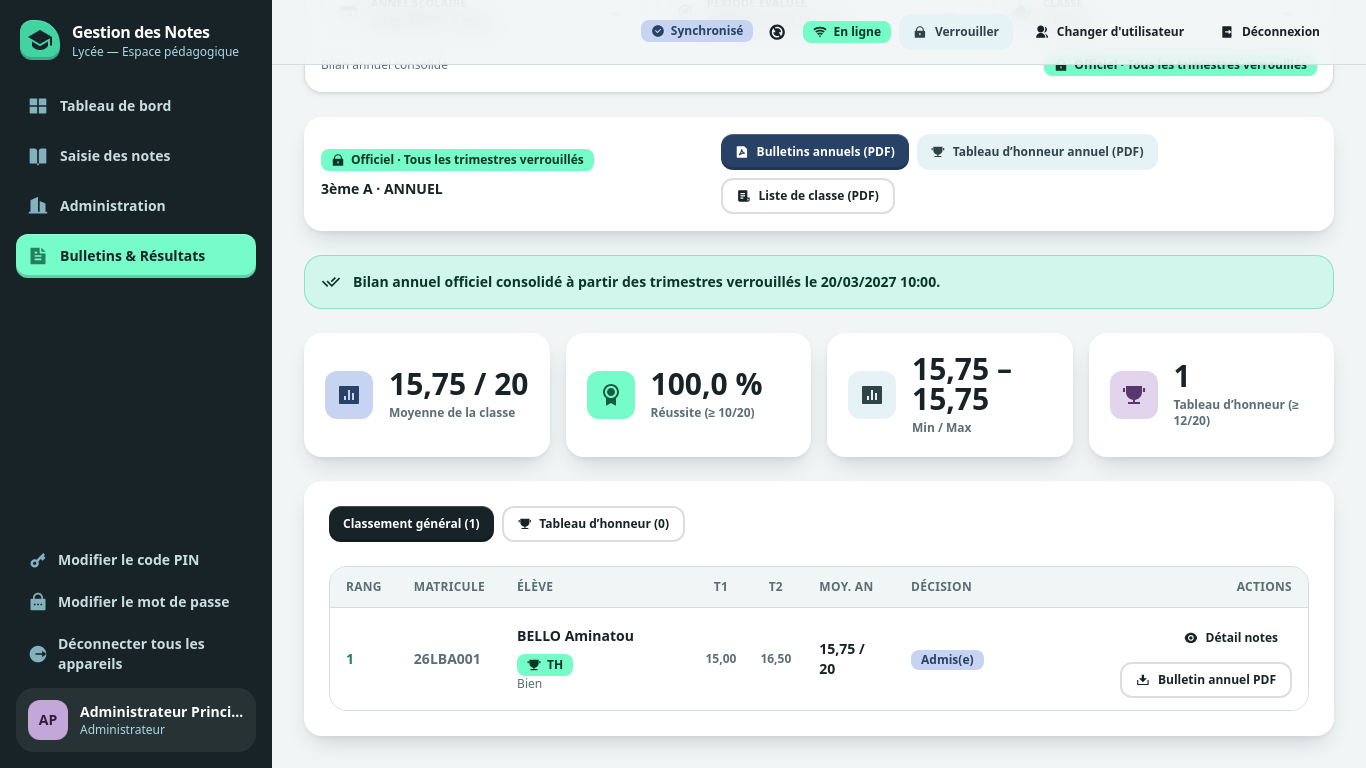
/reports Stats, Council Decisions, Results, Audit & PDF downloads › supports Bilan annuel on stats & results tabs, annual PDFs, and period/council audit sub-views
Earlier steps of the test are not shown.
(page scrolled)
Expected: the text "15,00" is shown, top-left (694, 608), bottom-right (748, 710)
Expected: the text "16,50" is shown, top-left (748, 608), bottom-right (803, 710)
Step 1. Click the button "Détail notes" → (1231, 638), box top-left (1170, 620), bottom-right (1292, 656)
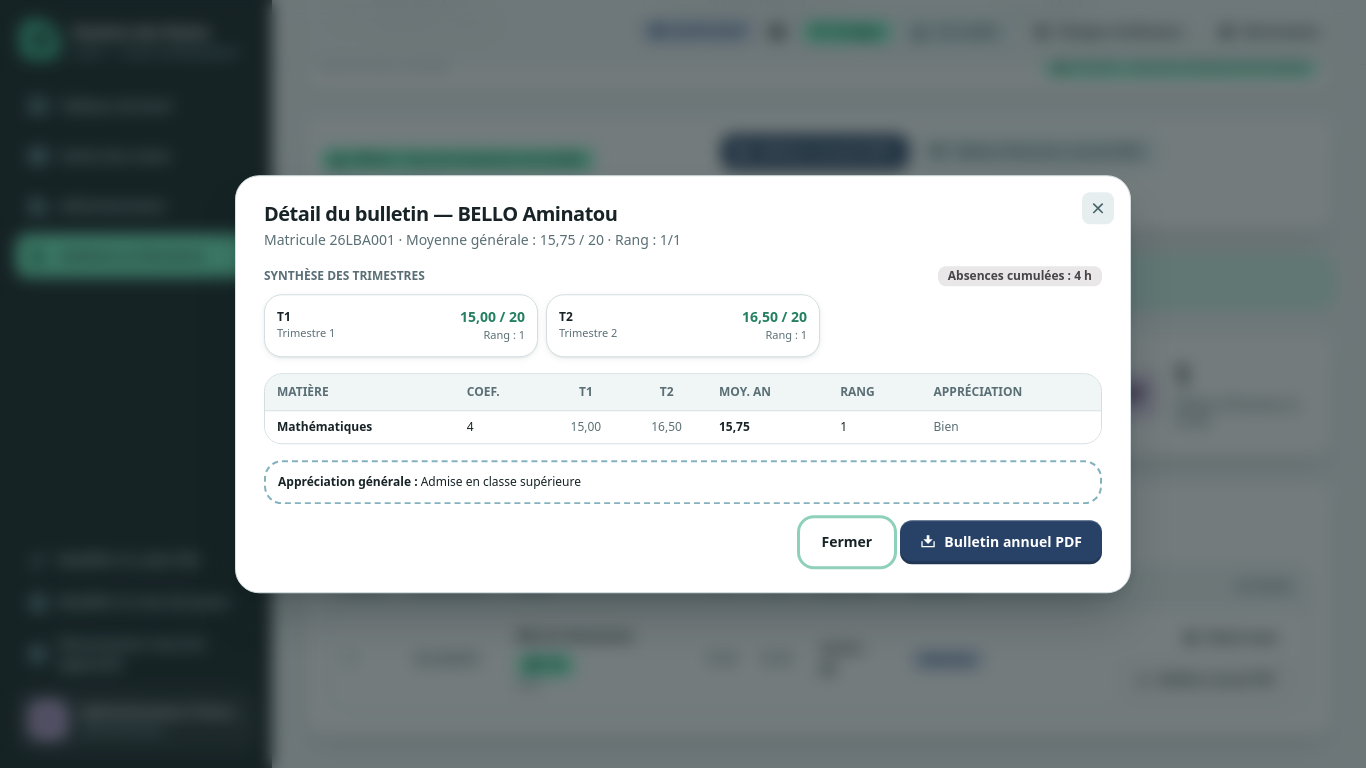
Now the text "Synthèse des trimestres" is shown, box top-left (264, 268), bottom-right (425, 284)
Now the text "Absences cumulées : 4 h" is shown, box top-left (938, 266), bottom-right (1102, 286)
Step 2. Click the button named "Fermer" → (1098, 208), box top-left (1082, 192), bottom-right (1114, 224)
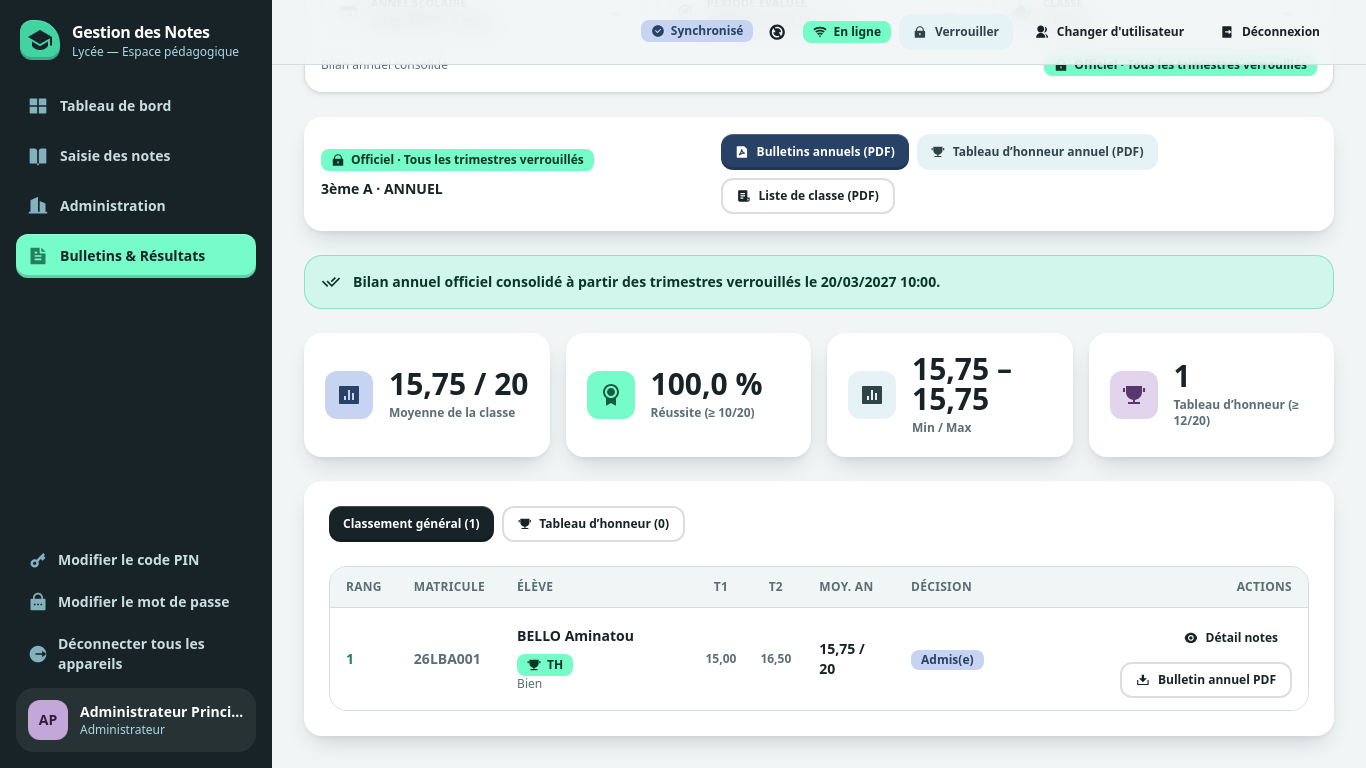
Step 3. Click the button "Bulletins annuels (PDF)" → (815, 152), box top-left (721, 134), bottom-right (909, 170)
(page scrolled)
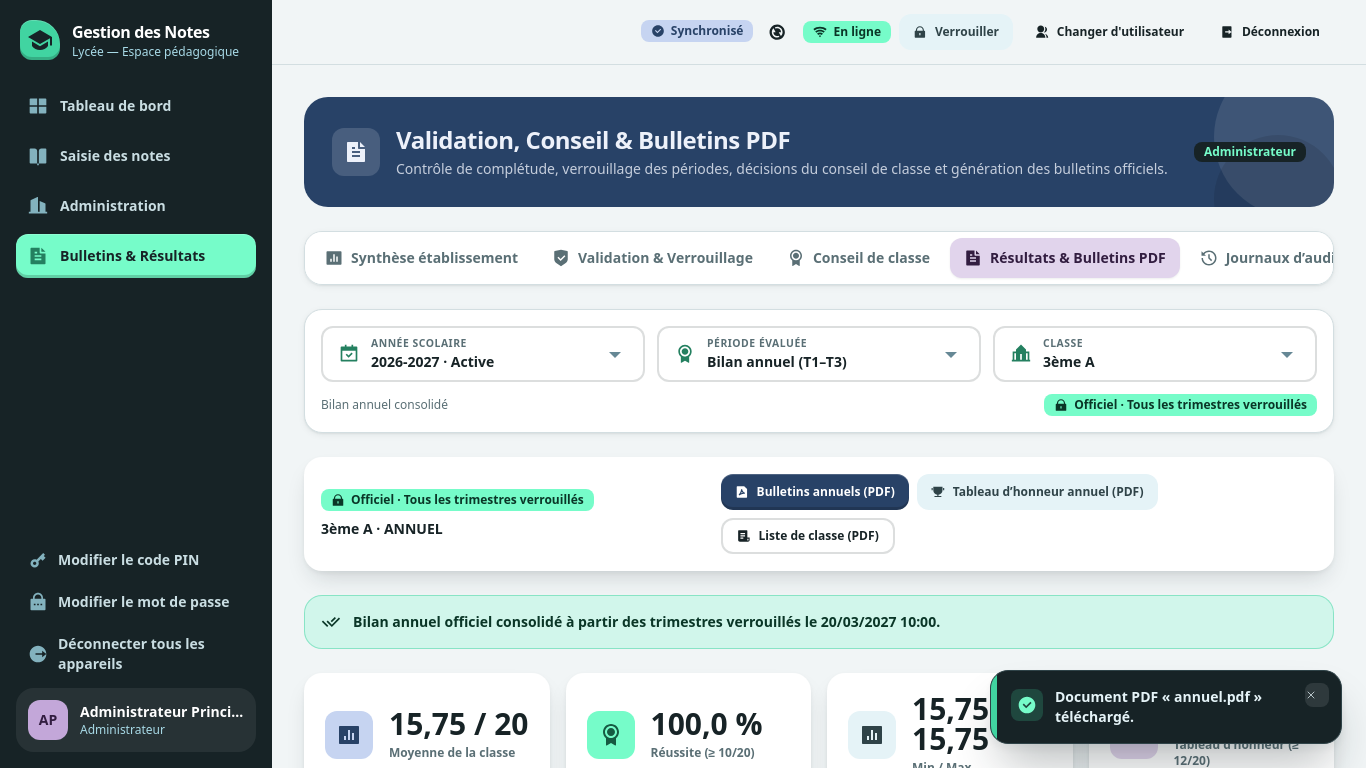
Step 4. Click the tab "Validation & Verrouillage" → (652, 258), box top-left (538, 238), bottom-right (767, 278)
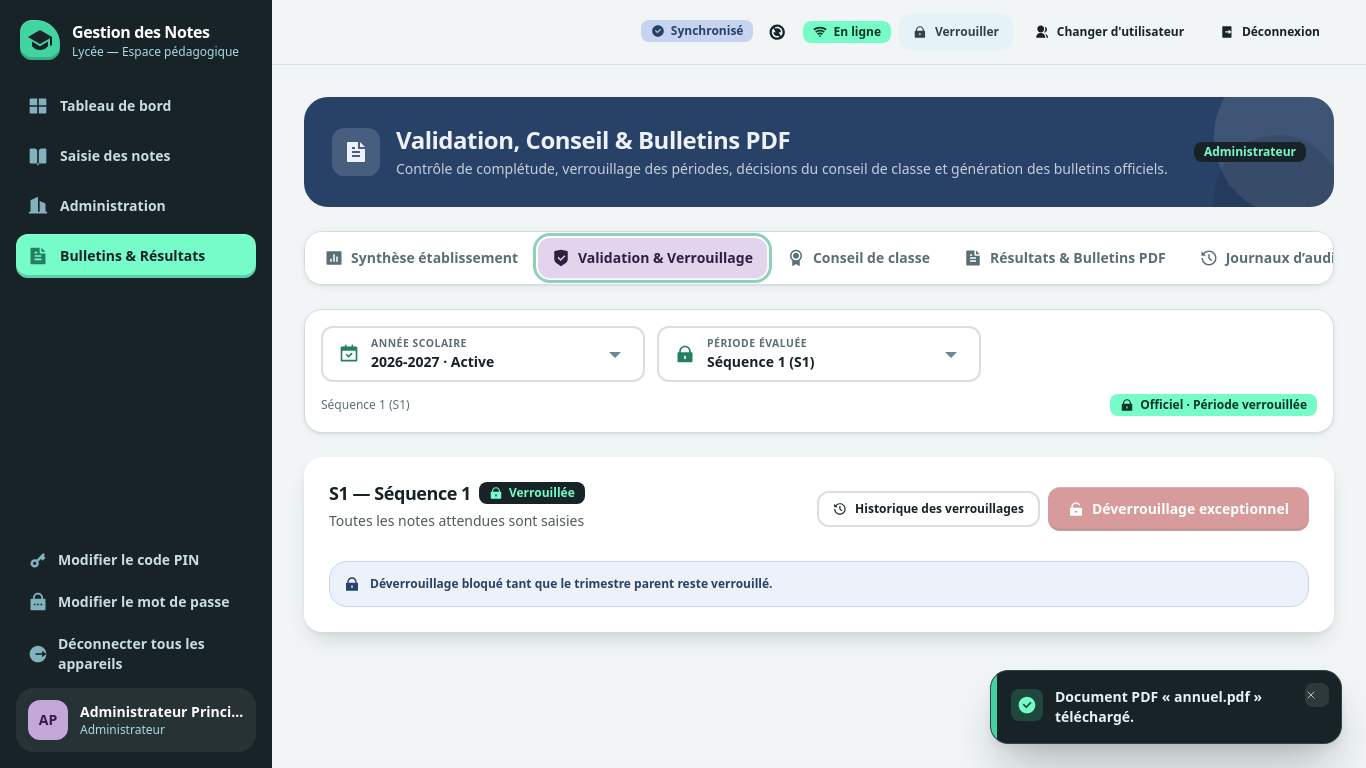
Step 5. Click the button "Historique des verrouillages" → (929, 509), box top-left (817, 491), bottom-right (1040, 527)
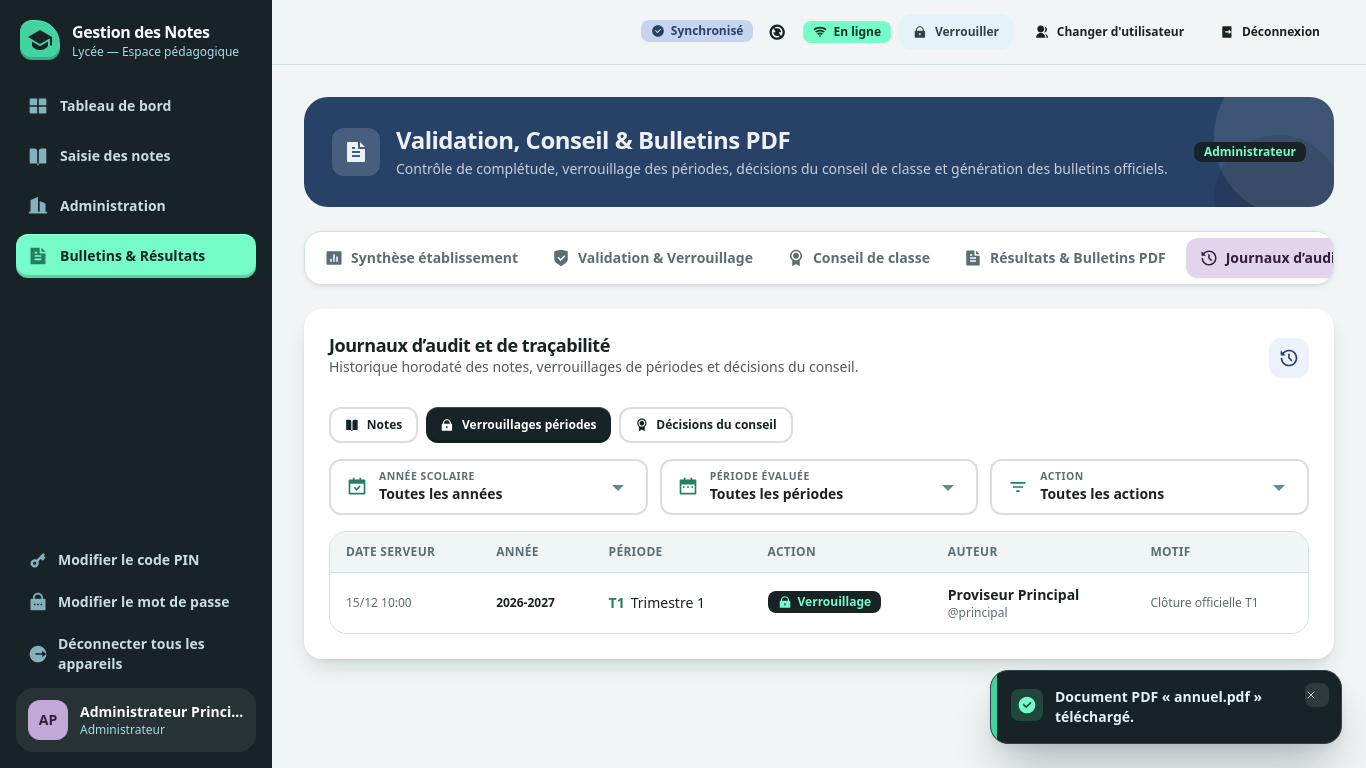
Now the text "Clôture officielle T1" is shown, box top-left (1134, 572), bottom-right (1308, 632)
Now the text "@principal" is shown, box top-left (948, 604), bottom-right (1008, 620)
Step 6. Click the button "Décisions du conseil" → (706, 424), box top-left (618, 406), bottom-right (793, 442)
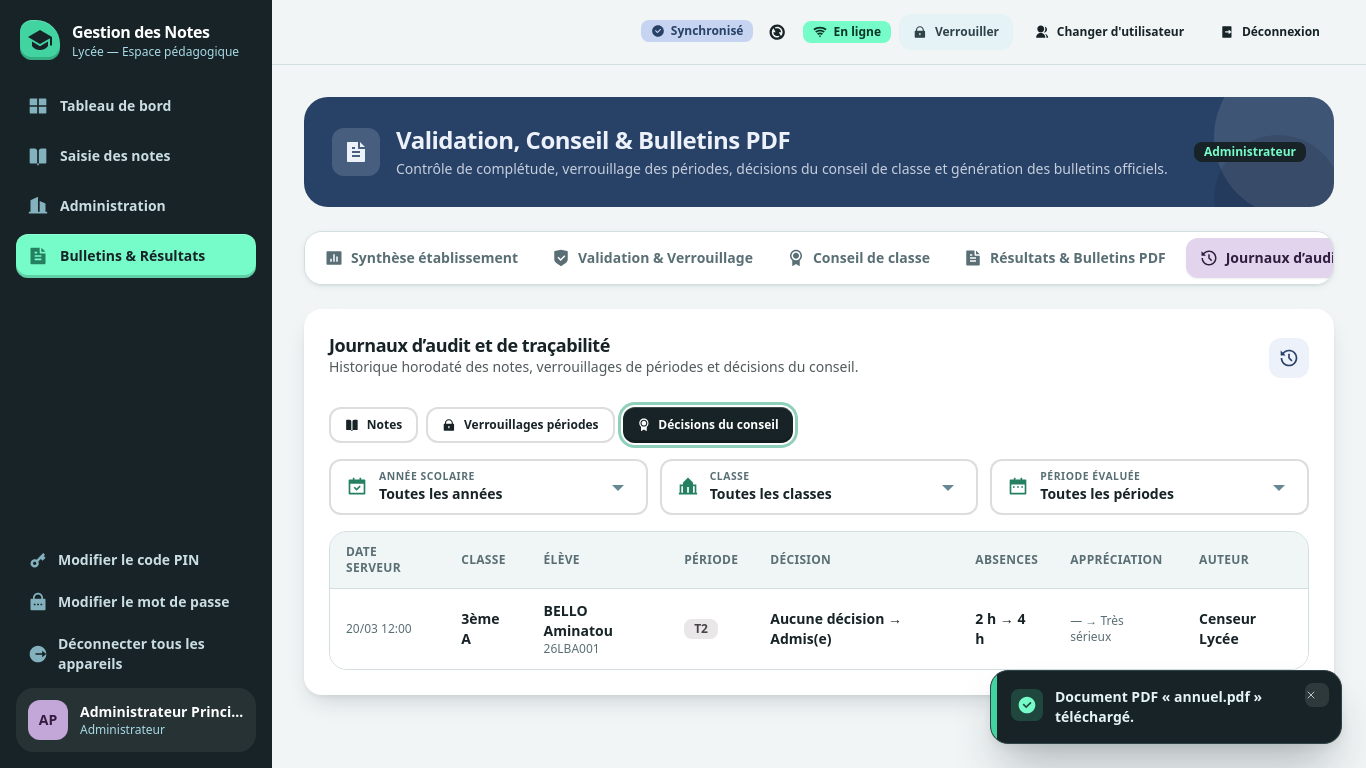
Now the text "Censeur Lycée" is shown, box top-left (1183, 588), bottom-right (1308, 668)
Now the text "Aucune décision → Admis(e)" is shown, box top-left (770, 608), bottom-right (902, 648)
Now the text "2 h → 4 h" is shown, box top-left (959, 588), bottom-right (1054, 668)
